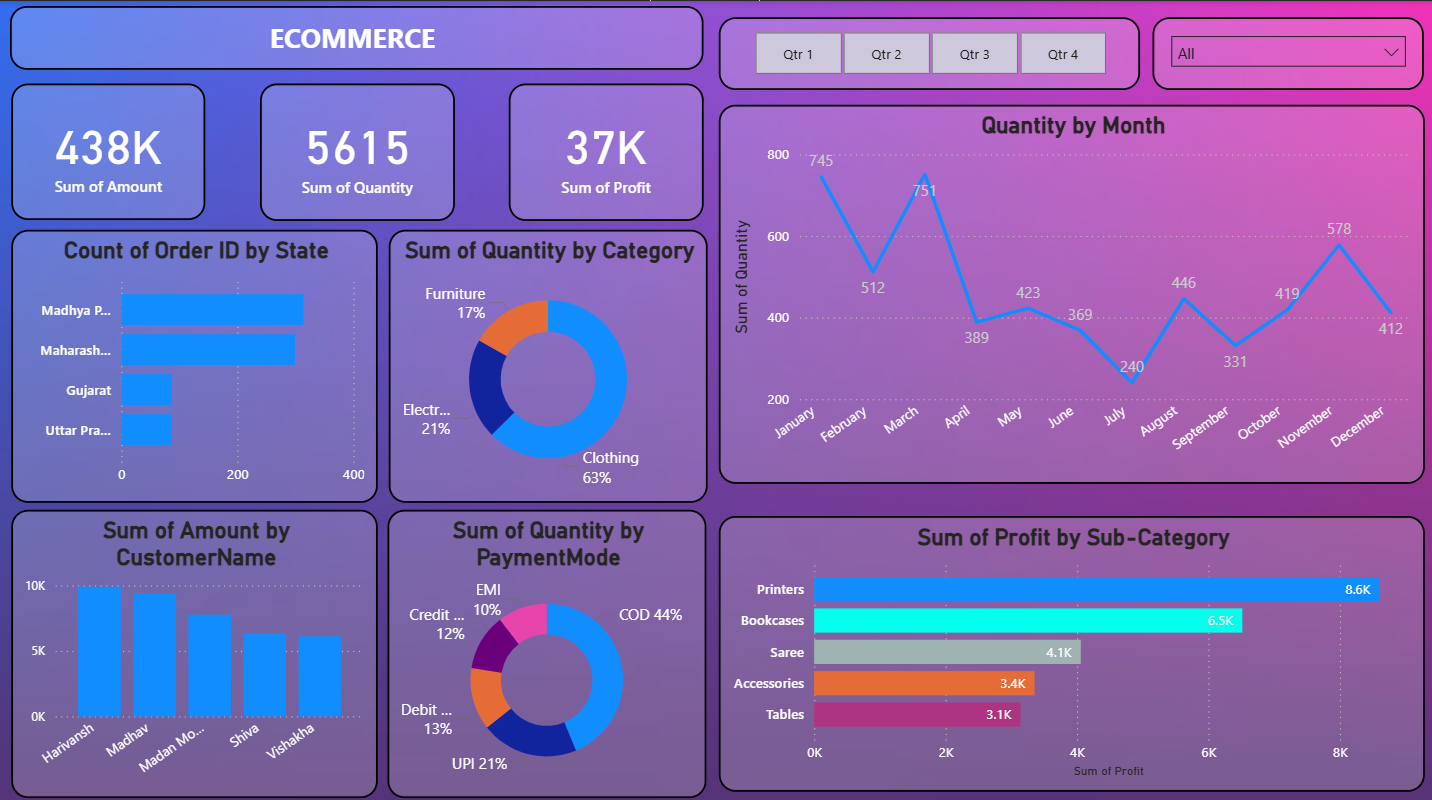

Layout of this report page (visuals, bound fields, positions):
{"tool":"powerbi","page":{"name":"Page 1","canvas":[1280,720],"ordinal":0},"visuals":[{"type":"textbox","box":[9.3,4.7,617.4,57],"z":0},{"type":"lineChart","title":"Quantity by Month","fields":{"Category":["Orders.Order Date.Variation.Date Hierarchy.Month"],"Y":["Details.Quantity"]},"box":[639.5,91.9,629.1,337.2],"z":1000},{"type":"barChart","fields":{"Category":["Details.Sub-Category"],"Y":["Details.Profit"]},"box":[639.5,458.1,629.1,245.3],"z":2000},{"type":"donutChart","fields":{"Category":["Details.Category"],"Y":["Details.Quantity"]},"box":[346.5,203.5,283.7,243],"z":3000},{"type":"donutChart","fields":{"Category":["Details.PaymentMode"],"Y":["Details.Quantity"]},"box":[345.3,453.5,283.7,257],"z":4000},{"type":"card","fields":{"Values":["Details.Amount"]},"box":[9.8,73.6,173,121.5],"z":5000},{"type":"card","fields":{"Values":["Details.Quantity"]},"box":[231.4,73.3,173.3,122.1],"z":6000},{"type":"card","fields":{"Values":["Details.Profit"]},"box":[453.5,73.3,173.3,122.1],"z":7000},{"type":"clusteredBarChart","fields":{"Category":["Orders.State"],"Y":["Details.Order ID"]},"box":[10.5,203.5,326.7,243],"z":8000},{"type":"slicer","fields":{"Values":["Orders.Order Date.Variation.Date Hierarchy.Quarter"]},"box":[639.5,14,375.6,65.1],"z":9000},{"type":"slicer","fields":{"Values":["Orders.State"]},"box":[1026.7,14,241.9,65.1],"z":10000},{"type":"columnChart","fields":{"Category":["Orders.CustomerName"],"Y":["Details.Amount"]},"box":[10.5,453.5,326.7,257],"z":11000}]}

Visuals, with their boxes in screenshot pixels (x1, y1, x2, y2), scaled from the page's 1280x720 canvas onto the 1432x800 screenshot:
textbox: left=10, top=5, right=701, bottom=69
"Quantity by Month" lineChart: left=715, top=102, right=1419, bottom=477
barChart - Details.Sub-Category x Details.Profit: left=715, top=509, right=1419, bottom=782
donutChart - Details.Category x Details.Quantity: left=388, top=226, right=705, bottom=496
donutChart - Details.PaymentMode x Details.Quantity: left=386, top=504, right=704, bottom=789
card - Details.Amount: left=11, top=82, right=205, bottom=217
card - Details.Quantity: left=259, top=81, right=453, bottom=217
card - Details.Profit: left=507, top=81, right=701, bottom=217
clusteredBarChart - Orders.State x Details.Order ID: left=12, top=226, right=377, bottom=496
slicer - Orders.Order Date.Variation.Date Hierarchy.Quarter: left=715, top=16, right=1136, bottom=88
slicer - Orders.State: left=1149, top=16, right=1419, bottom=88
columnChart - Orders.CustomerName x Details.Amount: left=12, top=504, right=377, bottom=789
